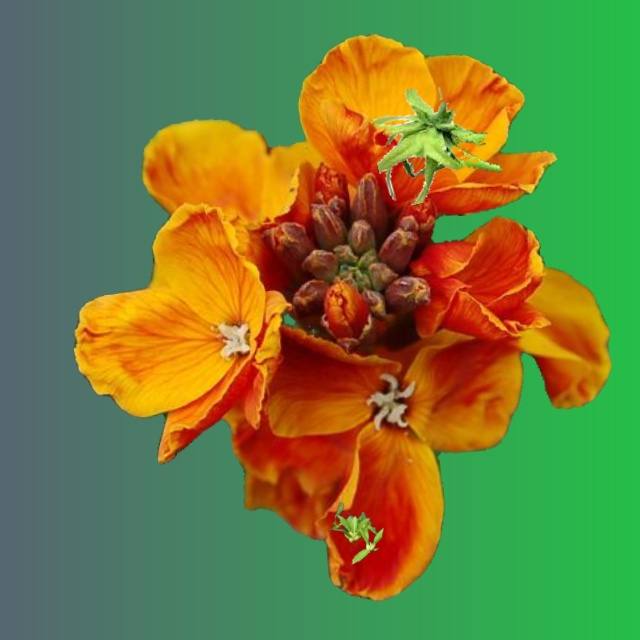jasmine: (166, 279, 236, 354)
wallflower: (74, 34, 611, 600)
ylang-ylang: (371, 87, 501, 205), (330, 503, 383, 563)
